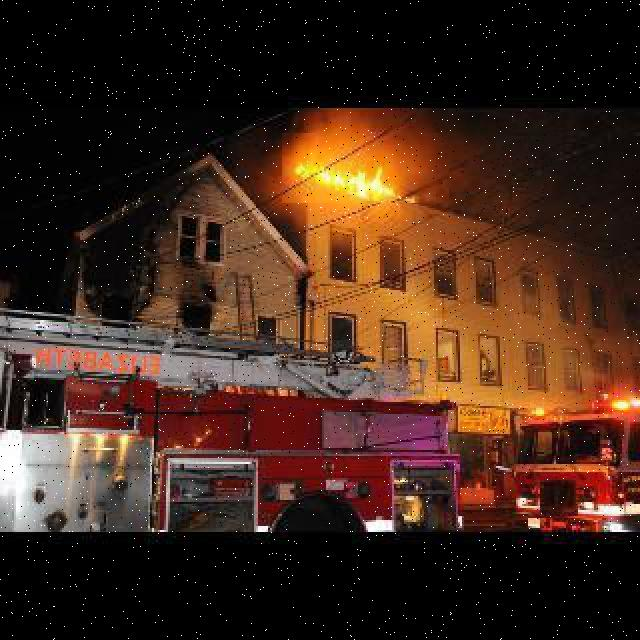fire: (282, 133, 449, 203)
